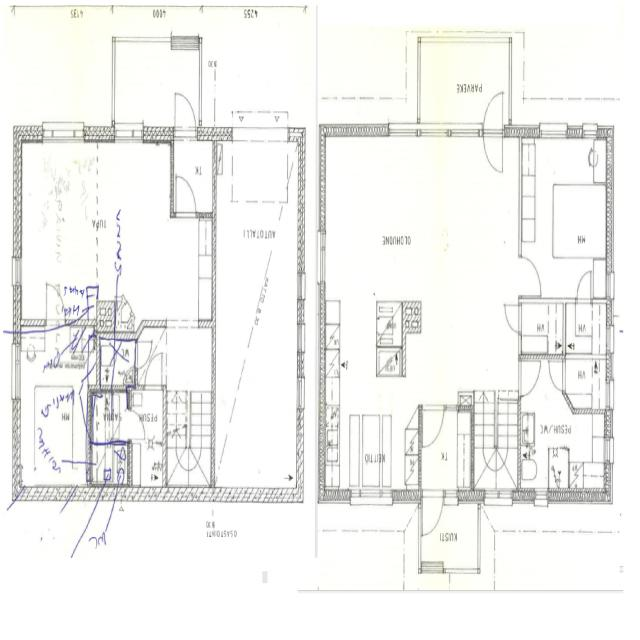door: (175, 85, 196, 140), (422, 490, 443, 542), (482, 123, 502, 175), (482, 84, 502, 136), (422, 404, 443, 450), (176, 174, 195, 217), (519, 257, 540, 295), (46, 283, 64, 325), (519, 360, 539, 396), (145, 354, 161, 390), (548, 360, 566, 390), (128, 410, 146, 439), (577, 271, 591, 303), (506, 306, 522, 332)
